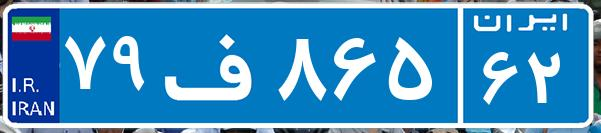2: (525, 38, 570, 115)
5: (385, 28, 445, 110)
6: (330, 28, 385, 110), (475, 38, 525, 113)
7: (57, 26, 110, 107)
8: (273, 28, 330, 110)
9: (110, 28, 158, 105)
ف: (158, 15, 273, 115)
